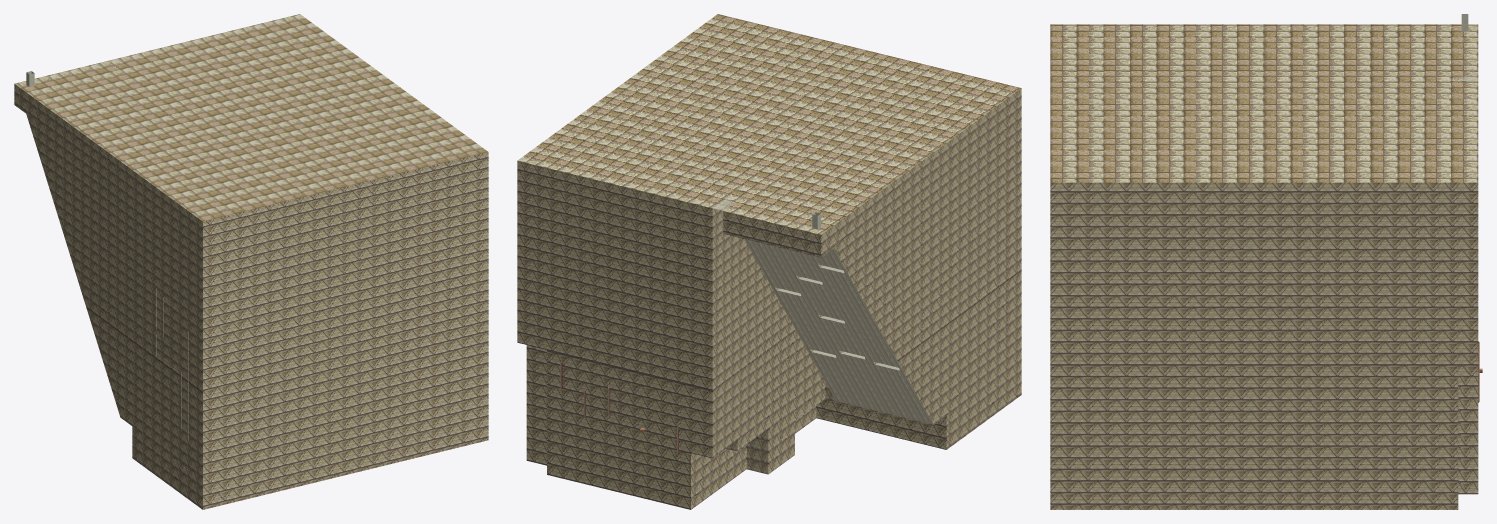
Rendered from horisoko_all.obj.
3 views of the same model, side by side, from view 1: azimuth 30°, elevation 25°; view 2: azimuth 150°, elevation 25°; view 3: azimuth 270°, elevation 25° (orthographic). The views are drawn at different scales.
Parts seen in each view (by area): view 1: r0; view 2: r0; view 3: r0.
Boxes of the visible parts, x1,y1,x2,y2 form: r0: (14,14,488,509); r0: (517,14,1021,509); r0: (1050,14,1482,509).
Bounding box in the file's own units: 11.2 × 11.28 × 12.92.
Materials: 7 (7 with a texture image).
